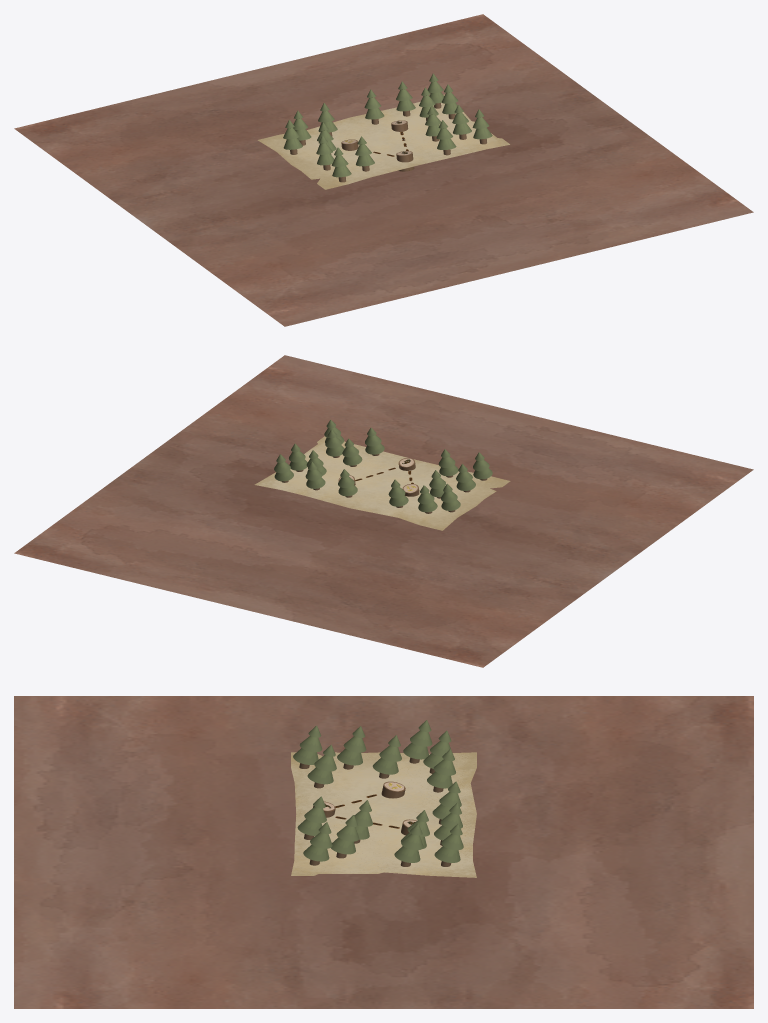
Rendered from Karta2.fbx.
The picture shows the model from 3 angles, top to bottom: view 1: azimuth 30°, elevation 25°; view 2: azimuth 150°, elevation 25°; view 3: azimuth 270°, elevation 25°; orthographic projection. The views are drawn at different scales.
Parts seen in each view (by area): view 1: Plane.002; view 2: Plane.002; view 3: Plane.002.
Part boxes in pixels (left/top/right/bottom): Plane.002: left=14, top=14, right=753, bottom=326; Plane.002: left=14, top=355, right=753, bottom=667; Plane.002: left=14, top=696, right=753, bottom=1008.
Bounding box in the file's own units: 1489 × 177 × 1489.
